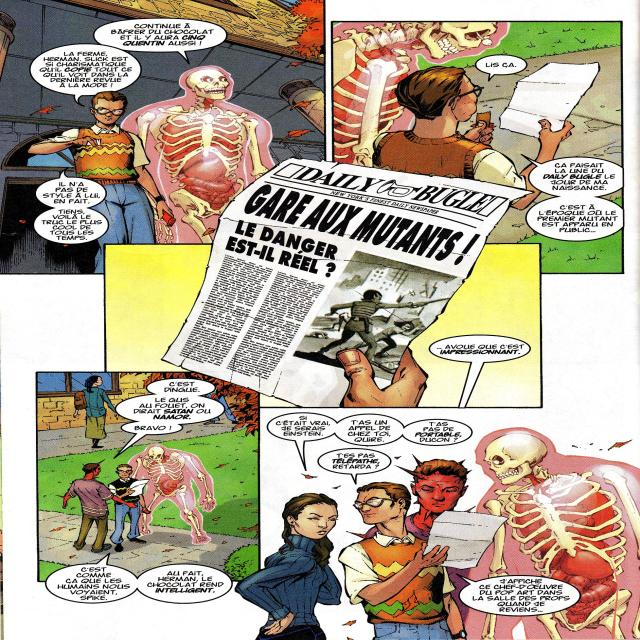comic_panel: (105, 156, 545, 410), (233, 406, 640, 640), (1, 0, 329, 275), (330, 20, 626, 275), (35, 369, 262, 607)
